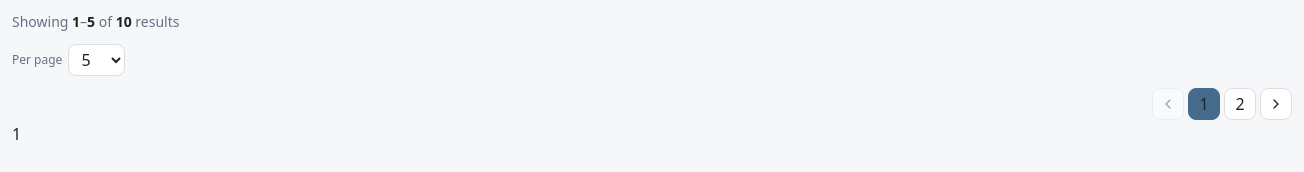
Test: Pagination compact layout › can return from the second page to the first page
What coordinates should you click on to do the following:
click the button named "Page 2"
I would click on:
 (1240, 104)
Its box is [1224, 88, 1256, 120].
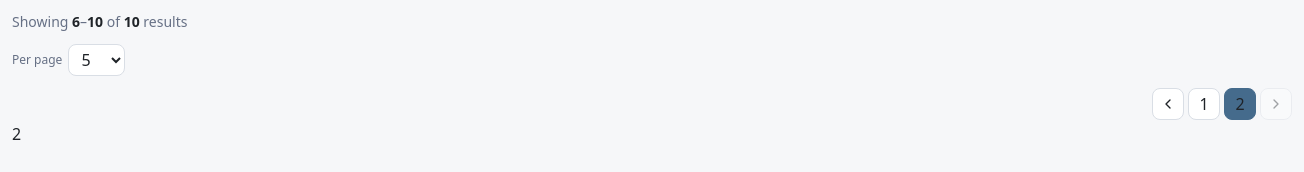
Check: the text named "Current page" reads "2", box [12, 123, 21, 145]
What coordinates should you click on to do the following:
click the button named "Page 1"
I would click on:
 (1204, 104)
Its box is [1188, 88, 1220, 120].
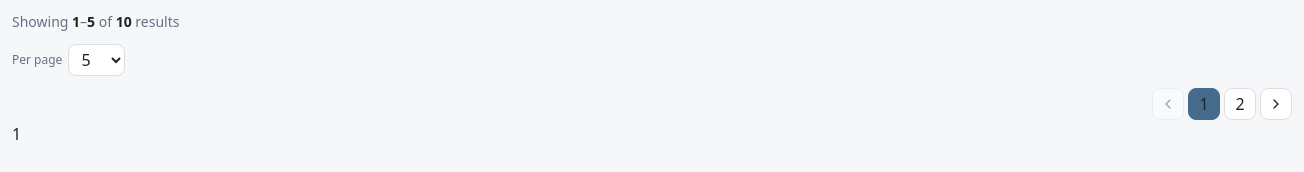
Check: the text named "Current page" reads "1", box [12, 123, 21, 145]
